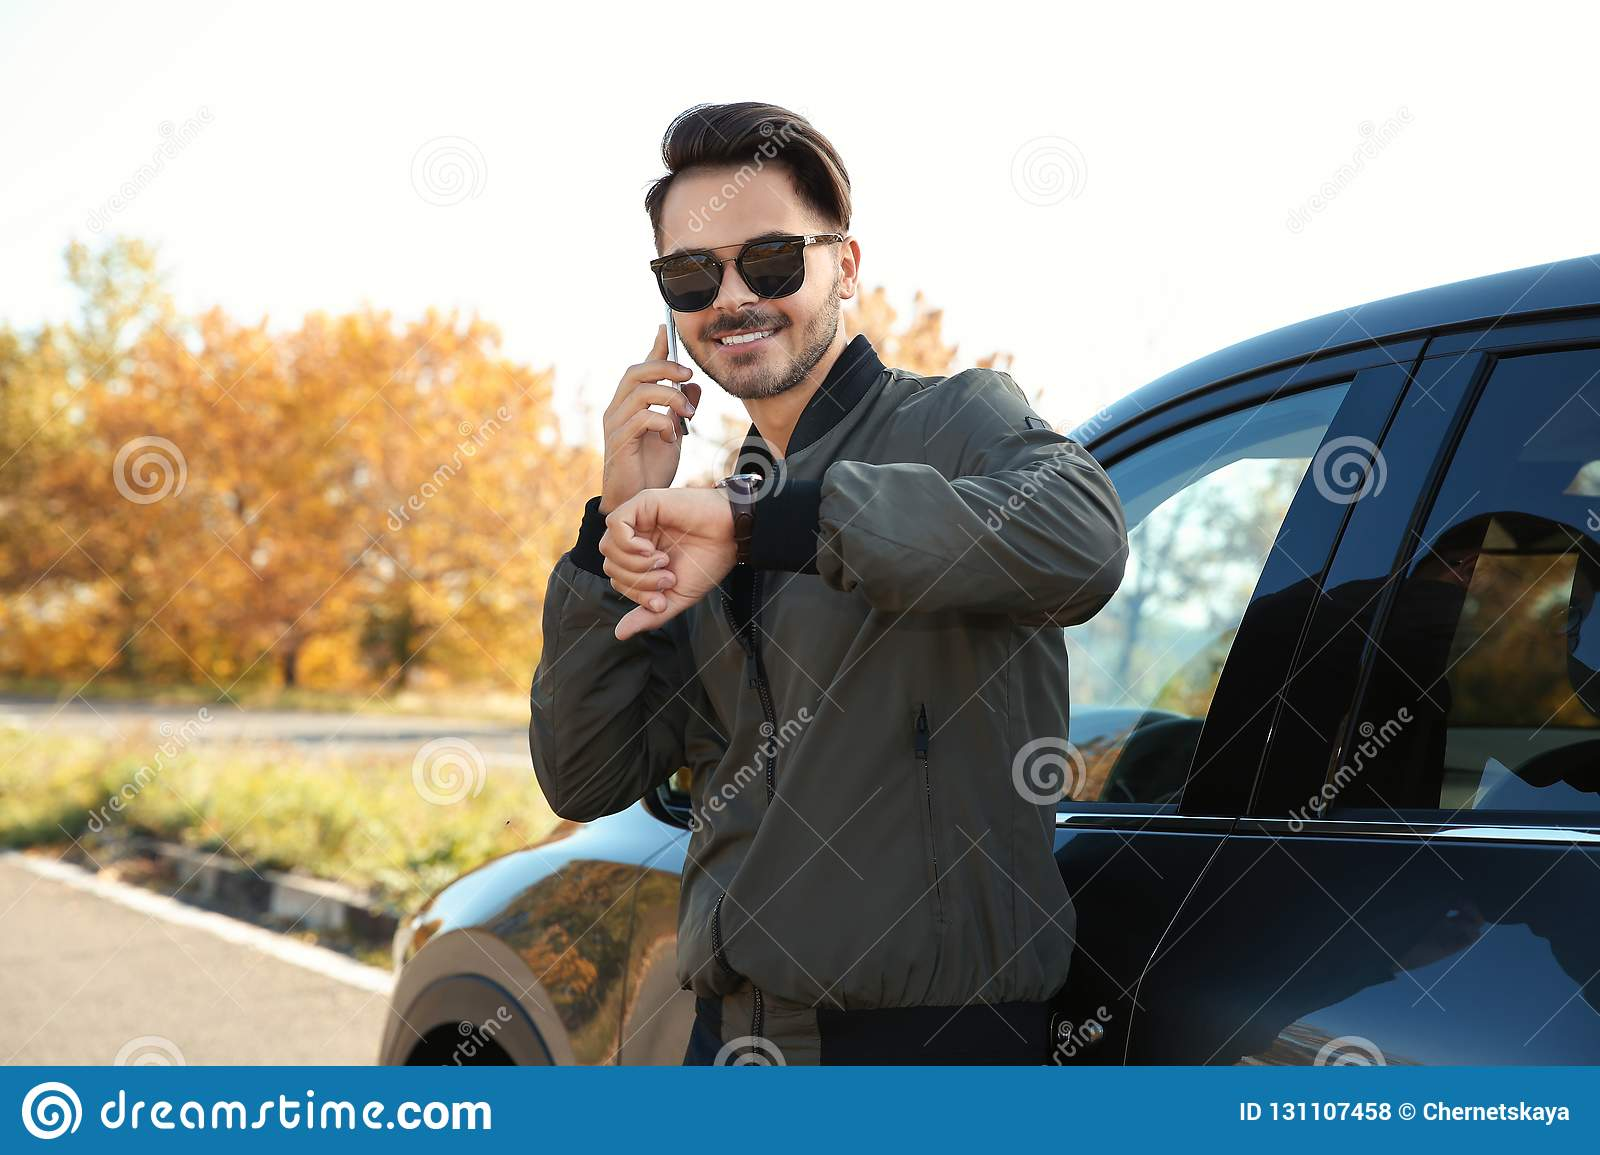phone: (653, 294, 694, 447)
talk: (598, 224, 817, 510)
